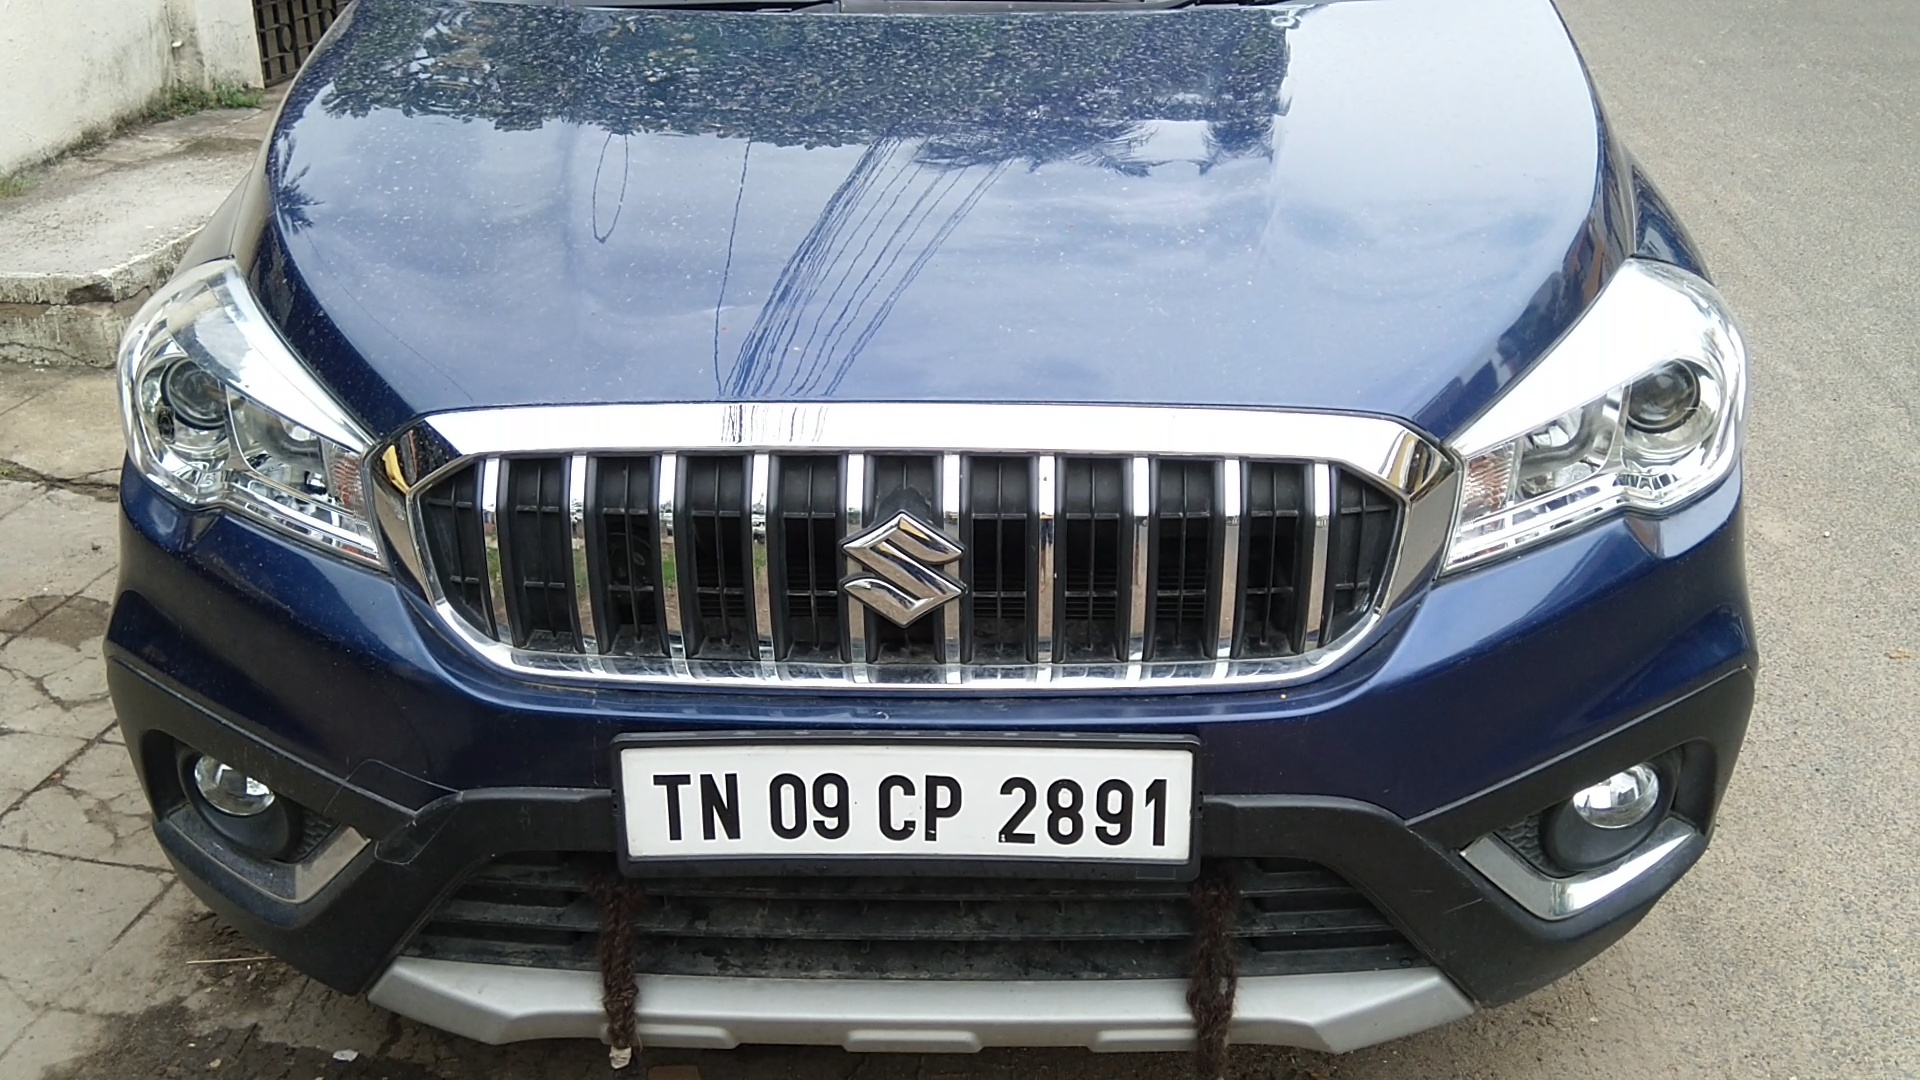front_grill: (376, 393, 1451, 696)
headlamp: (1453, 252, 1747, 599), (123, 255, 376, 560)
